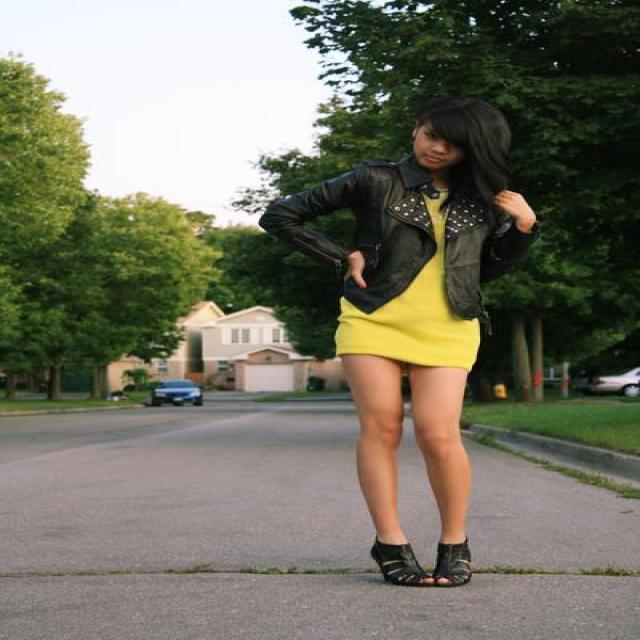dress: (336, 193, 478, 368)
jacket: (259, 160, 526, 324)
shoe: (368, 536, 478, 586)
